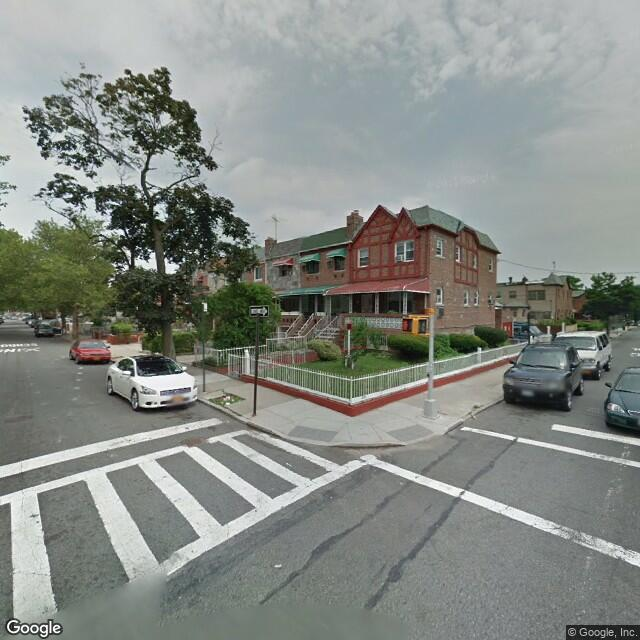litter: (209, 398, 248, 410)
